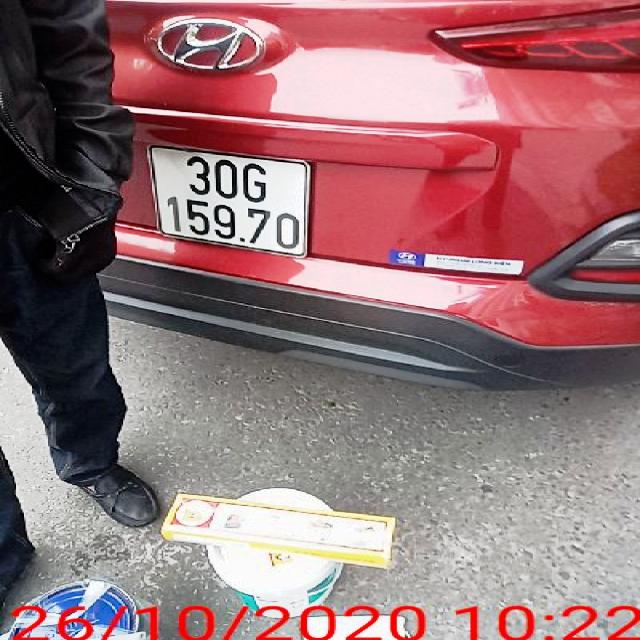license_plate: (152, 145, 308, 260)
